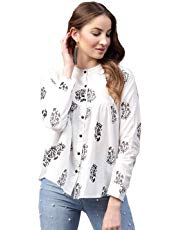tops: (37, 56, 143, 206)
